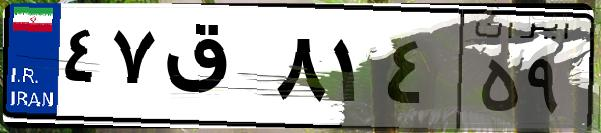1: (330, 28, 385, 110)
4: (385, 28, 445, 110), (57, 26, 110, 100)
5: (475, 38, 525, 113)
7: (110, 28, 158, 98)
8: (270, 28, 330, 110)
9: (525, 38, 570, 115)
ق: (158, 20, 270, 120)
